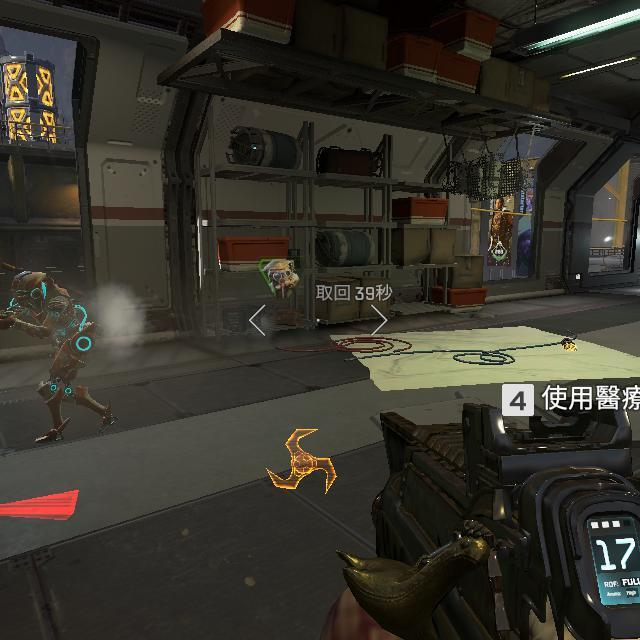avatar: (6, 265, 98, 448)
